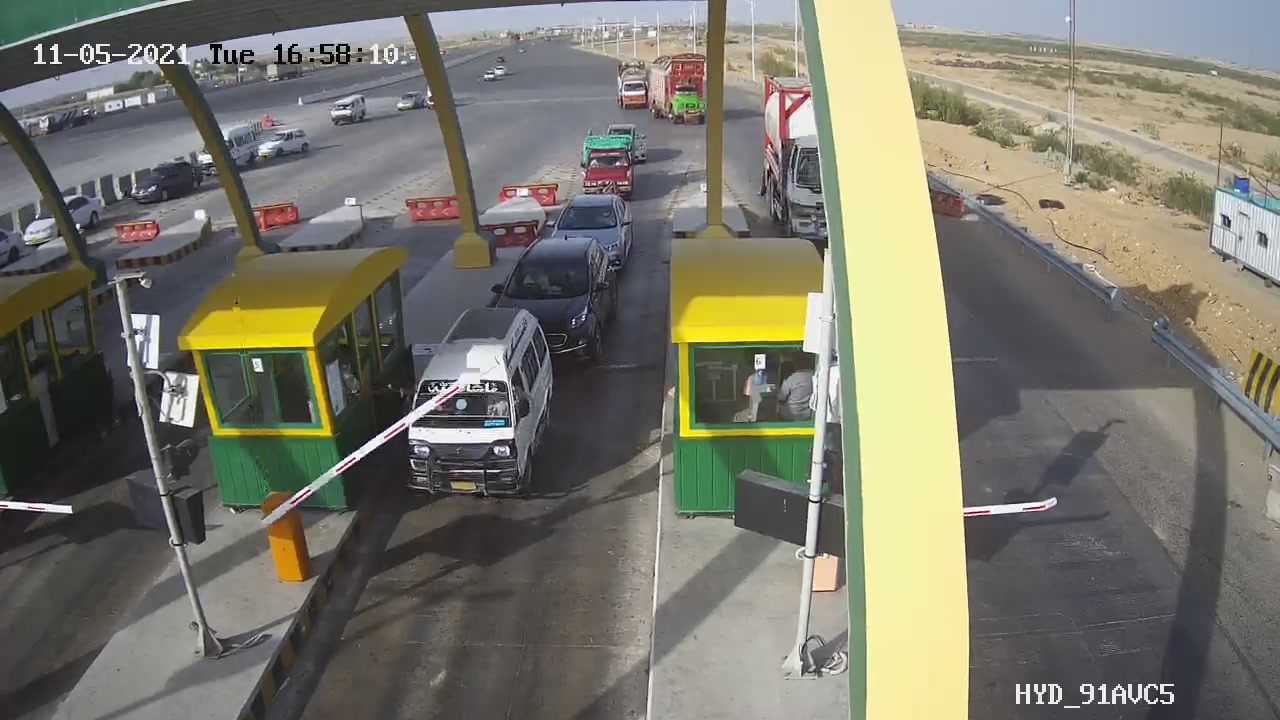F1: (388, 295, 576, 521), (478, 227, 627, 385)
